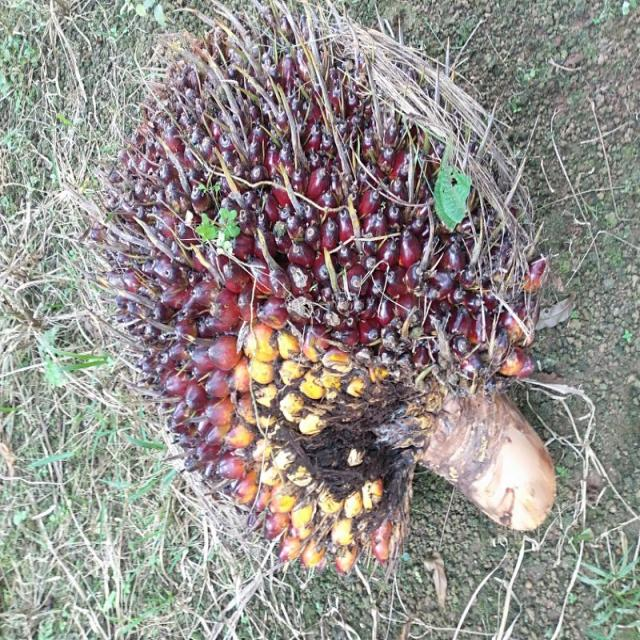fraksi 1: (94, 8, 534, 557)
